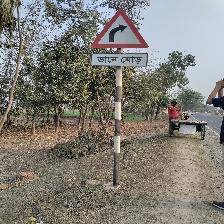Right-turn: (90, 8, 150, 68)
